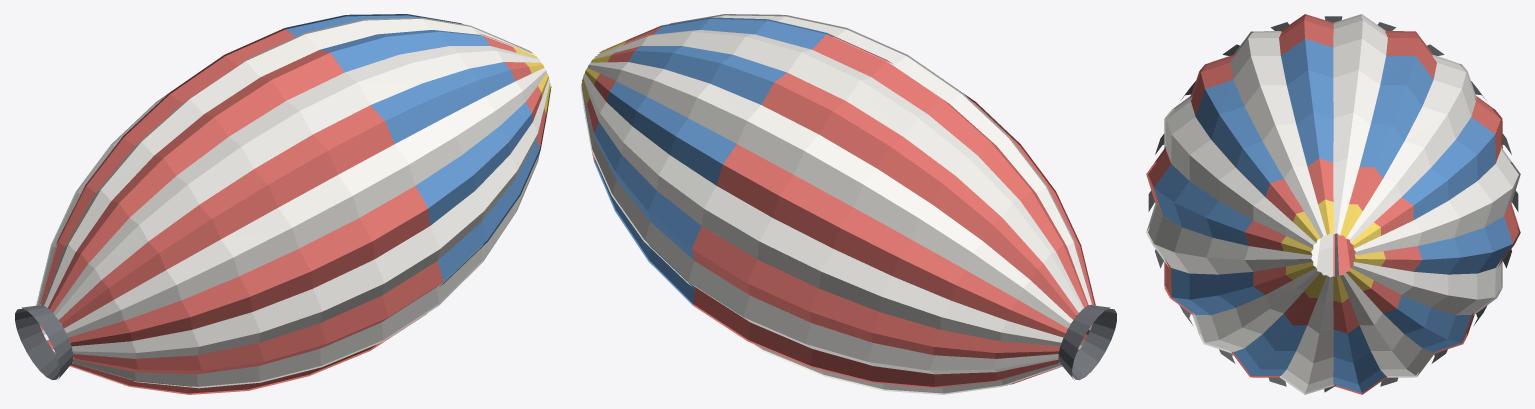
File: hot-air-balloon-festival-balloon-envelope-part-inflate-27e89483__38467.glb
3 views of the same model, side by side, from view 1: azimuth 30°, elevation 25°; view 2: azimuth 150°, elevation 25°; view 3: azimuth 270°, elevation 25° (orthographic). The views are drawn at different scales.
Parts seen in each view (by area): view 1: balloon-envelope-part-inflated-canvasB, balloon-envelope-part-inflated-canvasA, balloon-envelope-part-inflated-canvasC, balloon-envelope-part-inflated-charcoal, balloon-envelope-part-inflated-canvasD; view 2: balloon-envelope-part-inflated-canvasB, balloon-envelope-part-inflated-canvasA, balloon-envelope-part-inflated-canvasC, balloon-envelope-part-inflated-charcoal; view 3: balloon-envelope-part-inflated-canvasB, balloon-envelope-part-inflated-canvasC, balloon-envelope-part-inflated-canvasA, balloon-envelope-part-inflated-canvasD, balloon-envelope-part-inflated-charcoal.
Part boxes in pixels (<box>): balloon-envelope-part-inflated-canvasB: <box>36,17,549,388</box>; balloon-envelope-part-inflated-canvasA: <box>39,23,546,394</box>; balloon-envelope-part-inflated-canvasC: <box>284,14,540,314</box>; balloon-envelope-part-inflated-charcoal: <box>15,24,547,385</box>; balloon-envelope-part-inflated-canvasD: <box>510,45,551,115</box>; balloon-envelope-part-inflated-canvasB: <box>580,14,1092,394</box>; balloon-envelope-part-inflated-canvasA: <box>587,25,1095,388</box>; balloon-envelope-part-inflated-canvasC: <box>594,17,833,305</box>; balloon-envelope-part-inflated-charcoal: <box>583,46,1116,385</box>; balloon-envelope-part-inflated-canvasB: <box>1146,14,1520,394</box>; balloon-envelope-part-inflated-canvasC: <box>1154,39,1512,392</box>; balloon-envelope-part-inflated-canvasA: <box>1146,14,1520,394</box>; balloon-envelope-part-inflated-canvasD: <box>1281,199,1385,302</box>; balloon-envelope-part-inflated-charcoal: <box>1148,16,1518,392</box>.
Bounding box in the file's own units: 22.08 × 12.76 × 12.13.
